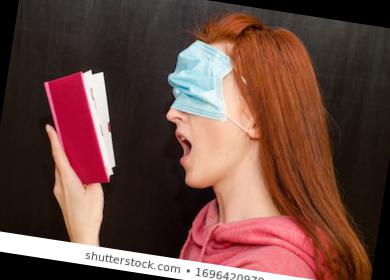mask_weared_incorrect: (151, 57, 239, 193)
